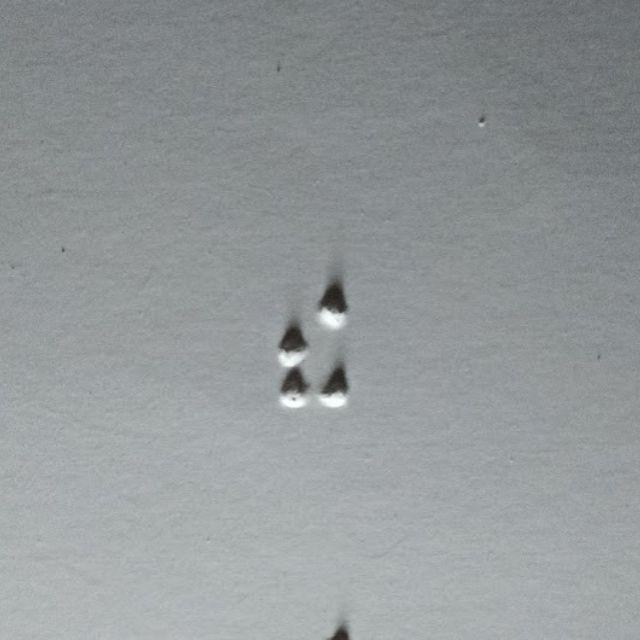ang: (278, 287, 350, 410)
